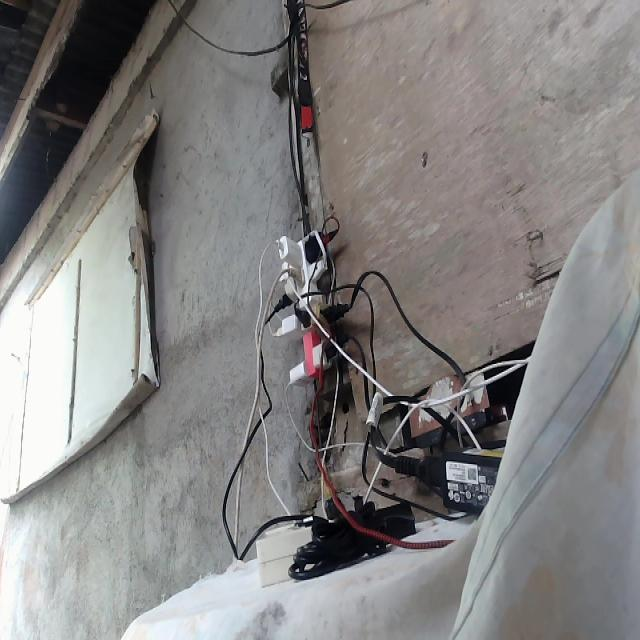-: (269, 224, 340, 385)
